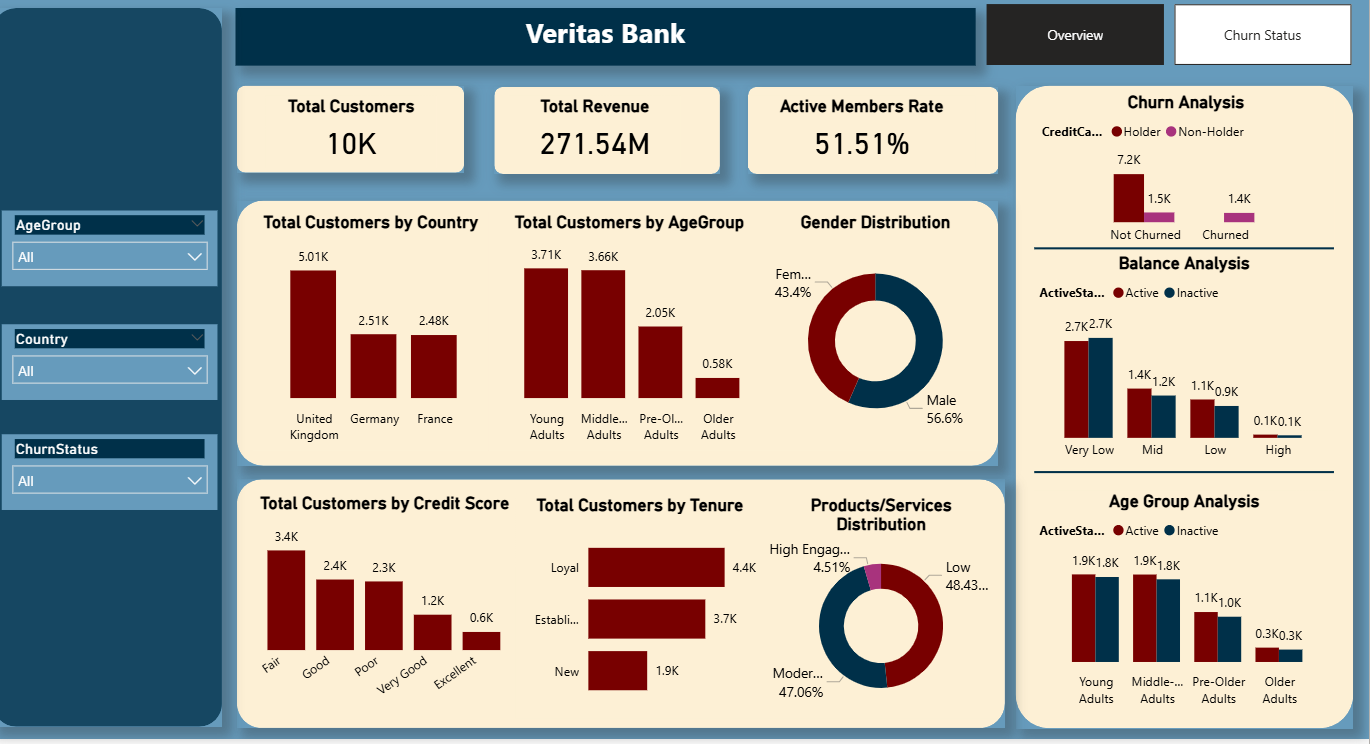

The page's visual inventory and layout, read from the dashboard file:
{"tool":"powerbi","page":{"name":"Overview","canvas":[1337,725],"ordinal":0},"visuals":[{"type":"shape","box":[237,89.7,221,84.9],"z":0},{"type":"shape","box":[733.6,91.3,243.5,84.9],"z":1000},{"type":"shape","box":[486.9,91.3,219.4,84.9],"z":2000},{"type":"shape","box":[993,89.7,328.3,624.6],"z":3000},{"type":"shape","box":[237,201.8,740,257.9],"z":4000},{"type":"shape","box":[237,472.5,746.4,241.9],"z":5000},{"type":"card","title":"Total Customers","fields":{"Values":["Measures_.Total Customers"]},"box":[264.3,99.3,166.6,70.5],"z":6000},{"type":"card","title":"Total Revenue","fields":{"Values":["Measures_.Total Revenue"]},"box":[501.3,99.3,166.6,70.5],"z":7000},{"type":"textbox","box":[235.4,14.4,719.1,56.1],"z":8000},{"type":"card","title":"Active Members Rate","fields":{"Values":["Measures_.Active Member Rate"]},"box":[733.6,99.3,221,70.5],"z":9000},{"type":"clusteredColumnChart","fields":{"Y":["Measures_.Total Customers"],"Category":["Customerinfo.Country"]},"box":[253.1,213,229,232.2],"z":10000},{"type":"clusteredColumnChart","fields":{"Y":["Measures_.Total Customers"],"Category":["Customerinfo.AgeGroup"]},"box":[482.1,213,272.3,232.2],"z":11000},{"type":"donutChart","title":" Gender Distribution","fields":{"Category":["Customerinfo.Gender"],"Y":["Measures_.Total Customers"]},"box":[749.6,213,216.2,232.2],"z":12000},{"type":"clusteredColumnChart","title":"Total Customers by Credit Score","fields":{"Y":["Measures_.Total Customers"],"Category":["Accountinfo.CreditScoreCat"]},"box":[243.5,485.3,275.5,217.8],"z":13000},{"type":"clusteredBarChart","title":"Total Customers by Tenure","fields":{"Y":["Measures_.Total Customers"],"Category":["Accountinfo.TenureCat"]},"box":[507.7,486.9,241.9,217.8],"z":14000},{"type":"donutChart","title":"Products/Services Distribution","fields":{"Y":["Measures_.Total Customers"],"Category":["Accountinfo.ProductCat"]},"box":[749.6,486.9,227.4,217.8],"z":15000},{"type":"clusteredColumnChart","title":"Churn Analysis","fields":{"Series":["Accountinfo.CreditCardStatus"],"Y":["CountNonNull(Accountinfo.ChurnStatus)"],"Category":["Accountinfo.ChurnStatus"]},"box":[1013.8,96.1,289.9,157],"z":16000},{"type":"clusteredColumnChart","title":"Age Group Analysis","fields":{"Y":["CountNonNull(Accountinfo.ChurnStatus)"],"Series":["Accountinfo.ActiveStatus"],"Category":["Customerinfo.AgeGroup"]},"box":[1012.2,483.7,291.5,217.8],"z":17000},{"type":"clusteredColumnChart","title":"Balance Analysis","fields":{"Y":["CountNonNull(Accountinfo.ChurnStatus)"],"Category":["Accountinfo.BalanceCat"],"Series":["Accountinfo.ActiveStatus"]},"box":[1012.2,253.1,291.5,209.8],"z":18000},{"type":"shape","box":[1012.2,459.7,291.5,12.8],"z":19000},{"type":"shape","box":[1012.2,241.9,291.5,12.8],"z":20000},{"type":"shape","box":[0,14.4,222.6,698.3],"z":21000},{"type":"slicer","fields":{"Values":["Customerinfo.AgeGroup"]},"box":[8,211.4,209.8,73.7],"z":22000},{"type":"slicer","fields":{"Values":["Customerinfo.Country"]},"box":[8,321.9,209.8,73.7],"z":23000},{"type":"slicer","fields":{"Values":["Accountinfo.ChurnStatus"]},"box":[8,429.2,209.8,73.7],"z":24000},{"type":"pageNavigator","box":[965.8,11.2,355.6,59.3],"z":25000}]}

Visuals, with their boxes in screenshot pixels (x1, y1, x2, y2), scaled from the page's 1337x725 canvas onto the 1371x744 screenshot:
shape: <box>243,92,470,179</box>
shape: <box>752,94,1002,181</box>
shape: <box>499,94,724,181</box>
shape: <box>1018,92,1355,733</box>
shape: <box>243,207,1002,472</box>
shape: <box>243,485,1008,733</box>
"Total Customers" card: <box>271,102,442,174</box>
"Total Revenue" card: <box>514,102,685,174</box>
textbox: <box>241,15,979,72</box>
"Active Members Rate" card: <box>752,102,979,174</box>
clusteredColumnChart - Measures_.Total Customers x Customerinfo.Country: <box>260,219,494,457</box>
clusteredColumnChart - Measures_.Total Customers x Customerinfo.AgeGroup: <box>494,219,774,457</box>
" Gender Distribution" donutChart: <box>769,219,990,457</box>
"Total Customers by Credit Score" clusteredColumnChart: <box>250,498,532,722</box>
"Total Customers by Tenure" clusteredBarChart: <box>521,500,769,723</box>
"Products/Services Distribution" donutChart: <box>769,500,1002,723</box>
"Churn Analysis" clusteredColumnChart: <box>1040,99,1337,260</box>
"Age Group Analysis" clusteredColumnChart: <box>1038,496,1337,720</box>
"Balance Analysis" clusteredColumnChart: <box>1038,260,1337,475</box>
shape: <box>1038,472,1337,485</box>
shape: <box>1038,248,1337,261</box>
shape: <box>0,15,228,731</box>
slicer - Customerinfo.AgeGroup: <box>8,217,223,293</box>
slicer - Customerinfo.Country: <box>8,330,223,406</box>
slicer - Accountinfo.ChurnStatus: <box>8,440,223,516</box>
pageNavigator: <box>990,11,1355,72</box>
